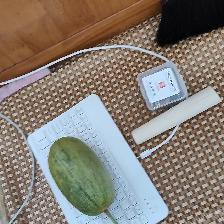gua: (51, 138, 121, 219)
